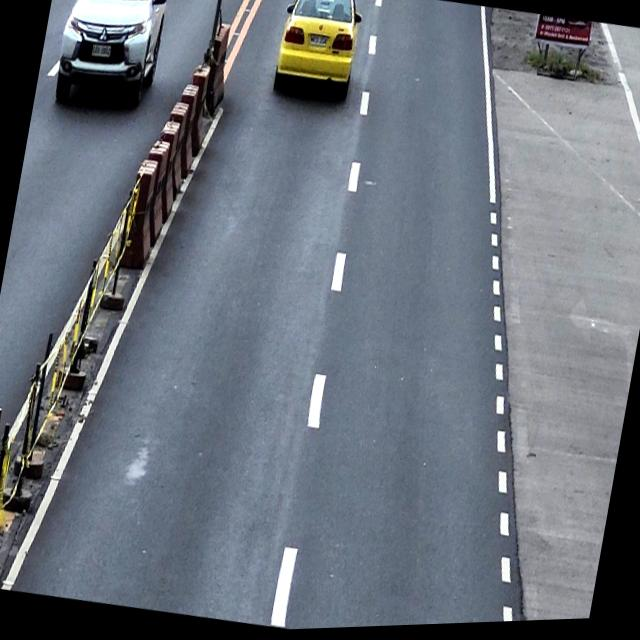Car: (48, 0, 174, 118), (271, 0, 366, 105)
License-Plate: (89, 40, 112, 61), (307, 33, 328, 50)
